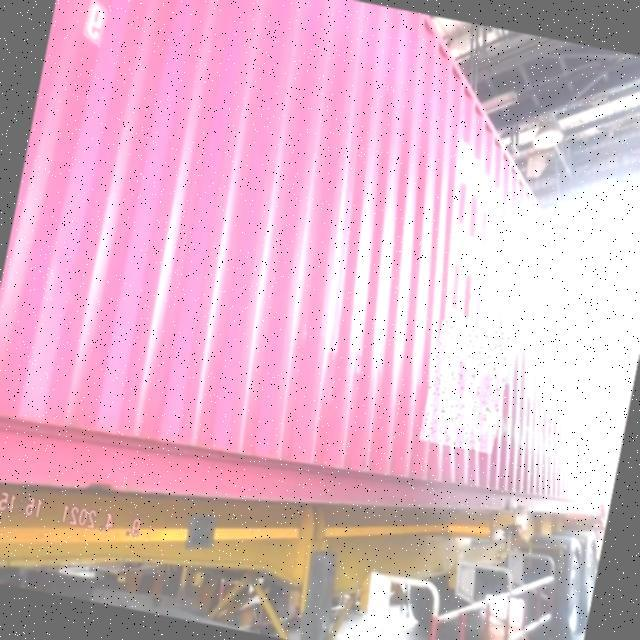Dent: (419, 321, 515, 455)
